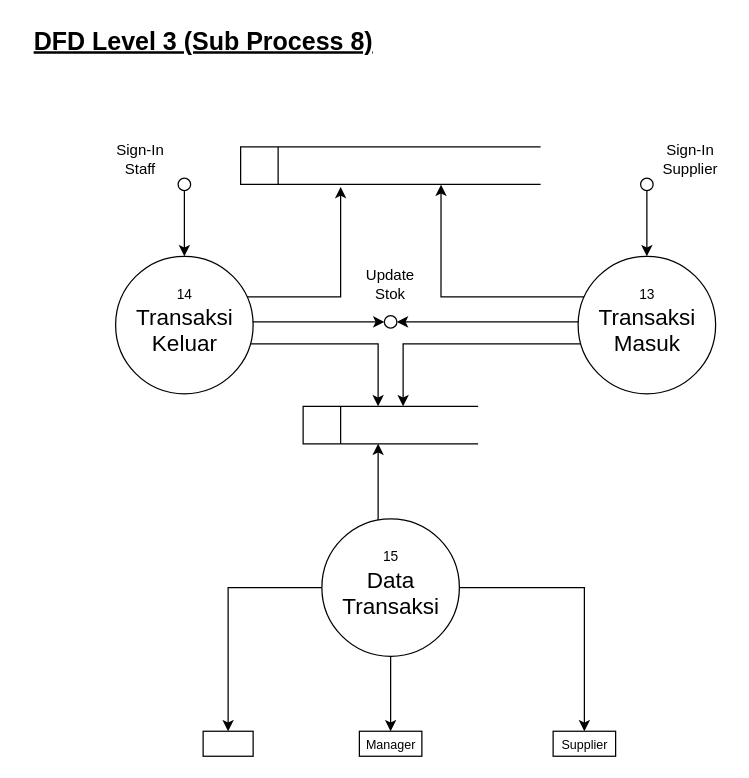
Image size: 749x778. Some labels were removed from this diagram. Each missing label, with the centre of its shape:
3 tb_transaksi: point (390, 424)
9 tb_transaksi_detail_temp: point (390, 165)
Staff: point (227, 743)
